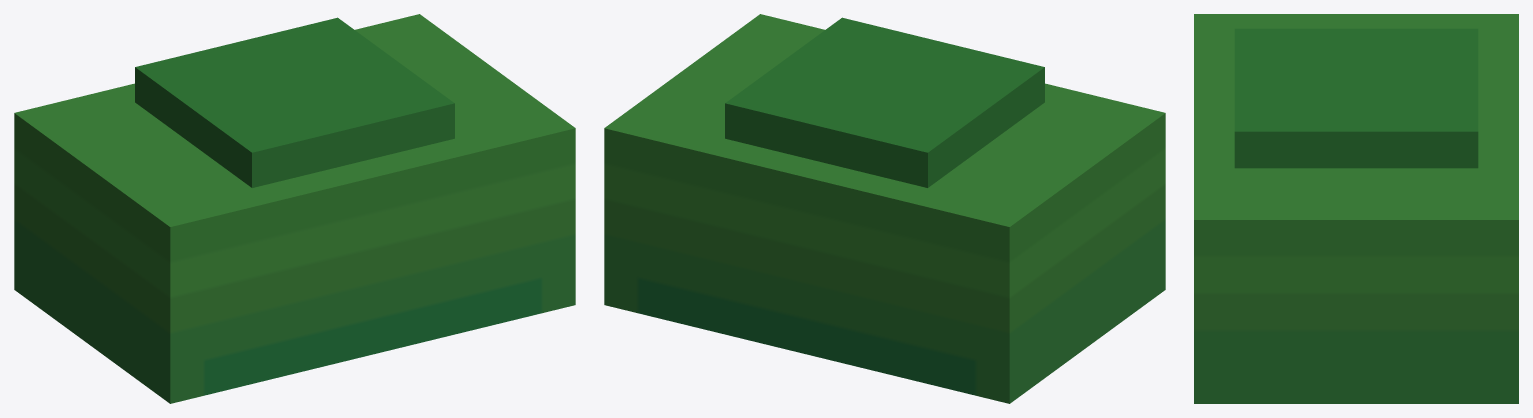
File: Chest029.fbx
3 renders of one model, left to right at view 1: azimuth 30°, elevation 25°; view 2: azimuth 150°, elevation 25°; view 3: azimuth 270°, elevation 25°, orthographic. The views are drawn at different scales.
Visible parts, largest first — view 1: Chest029; view 2: Chest029; view 3: Chest029.
Part boxes in pixels (x1,y1,x2,y2): Chest029: [14, 14, 575, 403]; Chest029: [604, 14, 1165, 403]; Chest029: [1194, 14, 1518, 403].
Bounding box in the file's own units: 12 × 6 × 8.
